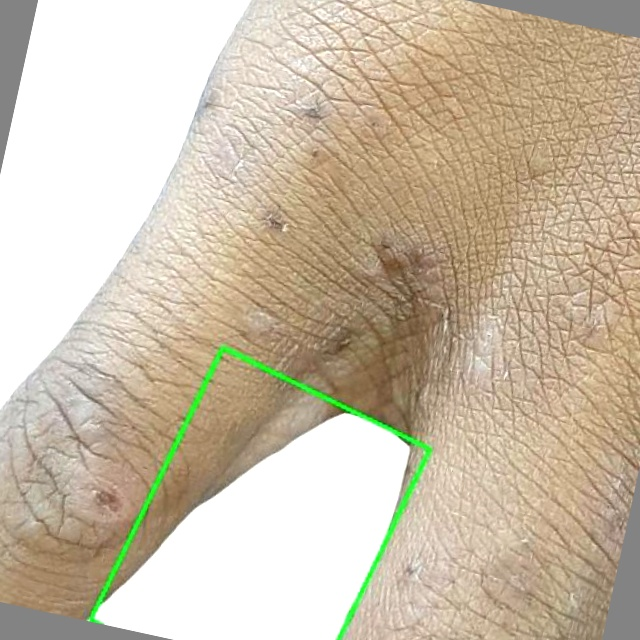Scabies: (90, 348, 430, 639)
